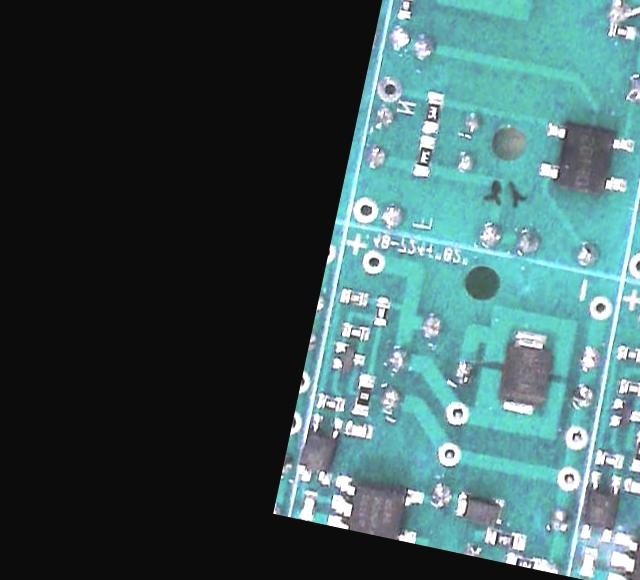chip-capacitor: (578, 546, 598, 577), (344, 420, 372, 438), (300, 491, 317, 519), (623, 477, 640, 496)
chip-resistor: (419, 90, 445, 134), (412, 133, 436, 177), (485, 526, 526, 551), (353, 374, 375, 412), (504, 551, 545, 571), (595, 447, 624, 468), (373, 297, 391, 326), (341, 322, 369, 340), (318, 392, 345, 410), (608, 22, 636, 39), (340, 287, 368, 304), (617, 377, 640, 397), (617, 344, 640, 362), (396, 0, 415, 18)
diode: (494, 327, 558, 418), (454, 491, 506, 525)
ic: (535, 117, 638, 199), (325, 471, 425, 544), (296, 410, 345, 488), (578, 469, 624, 541)
transistor: (332, 340, 367, 373), (608, 396, 640, 430)
